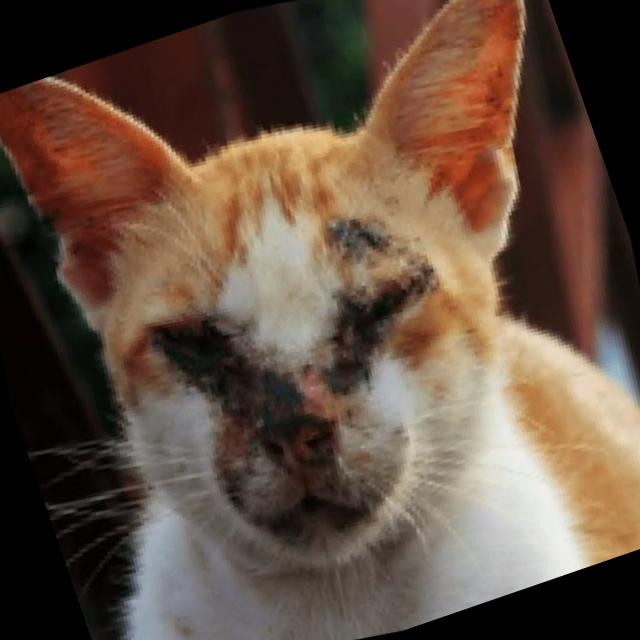Mange: (144, 318, 312, 426), (315, 272, 443, 388), (316, 196, 398, 266), (6, 175, 84, 247)
